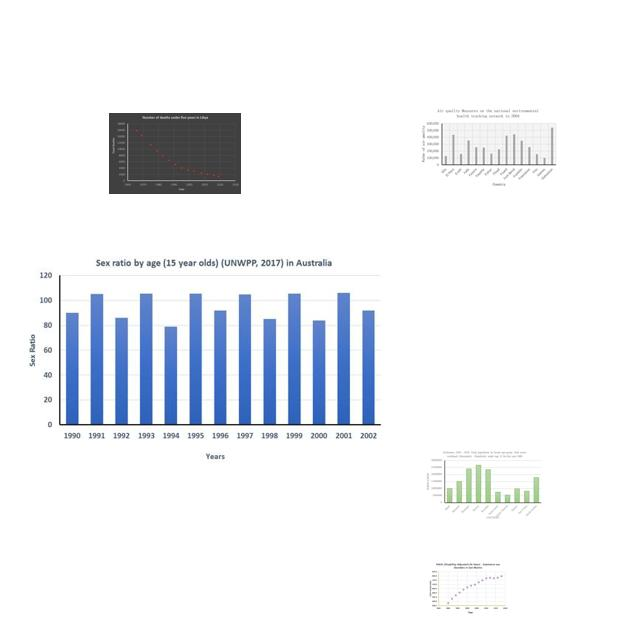Graph: (23, 250, 390, 470), (419, 106, 559, 188), (109, 113, 241, 194), (426, 450, 543, 520), (428, 562, 509, 614)
